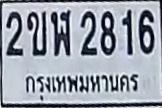1: (122, 9, 132, 54)
2: (5, 11, 23, 55), (80, 11, 96, 54)
6: (138, 9, 154, 53)
8: (100, 11, 115, 54)
A02: (26, 11, 46, 55)
A42: (50, 9, 70, 55)
BKK: (21, 68, 142, 103)
